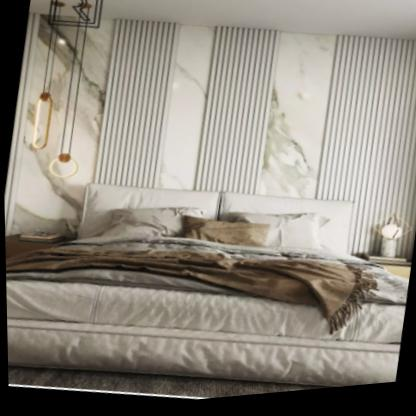Wall Panel: (0, 0, 416, 316), (3, 133, 416, 416)
